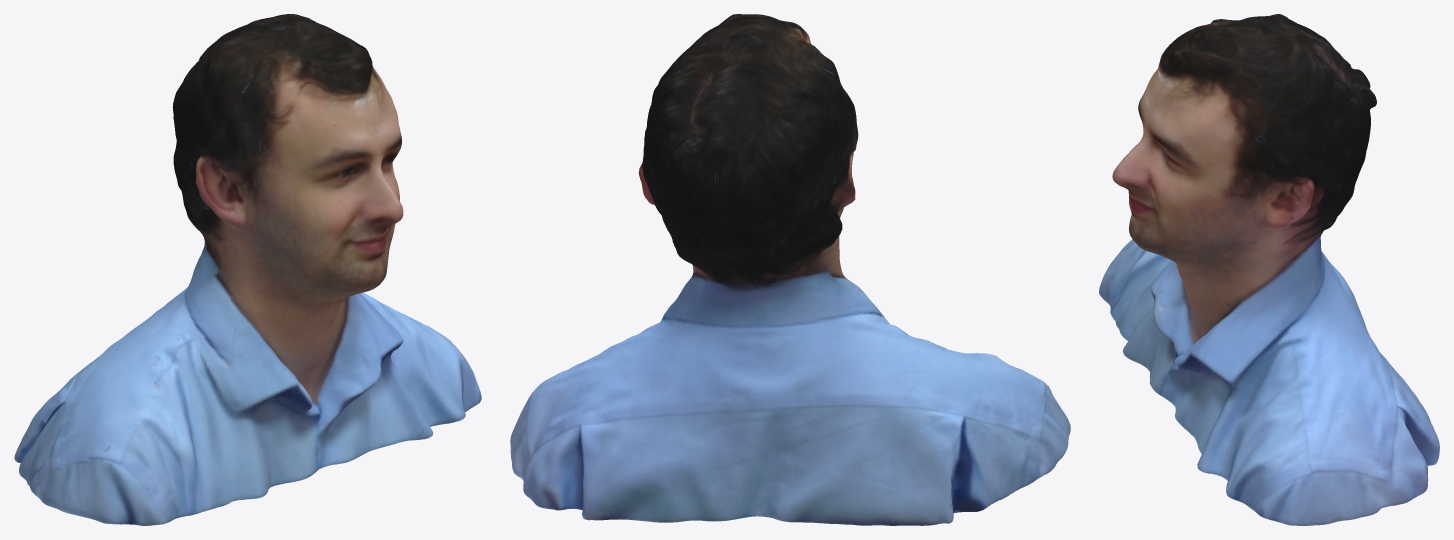
Rendered from vic.gltf.
3 renders of one model, left to right at view 1: azimuth 30°, elevation 25°; view 2: azimuth 150°, elevation 25°; view 3: azimuth 270°, elevation 25°, orthographic. The views are drawn at different scales.
Parts seen in each view (by area): view 1: Object_2; view 2: Object_2; view 3: Object_2.
Boxes of the visible parts, x1=… form: Object_2: x1=14, y1=14, x2=481, y2=525; Object_2: x1=510, y1=14, x2=1070, y2=525; Object_2: x1=1099, y1=14, x2=1439, y2=525.
Size of the model in its own units: 10.63 by 9.26 by 6.88.
Materials: 1 (1 with a texture image).
